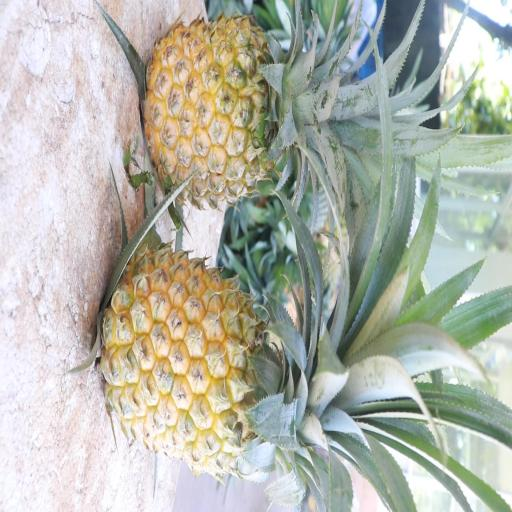Pineapple - v8 v1: (95, 239, 365, 481), (139, 9, 349, 212)
